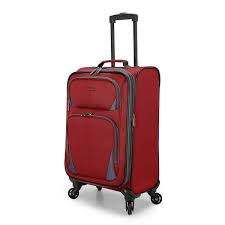suitcase: (62, 11, 163, 214)
